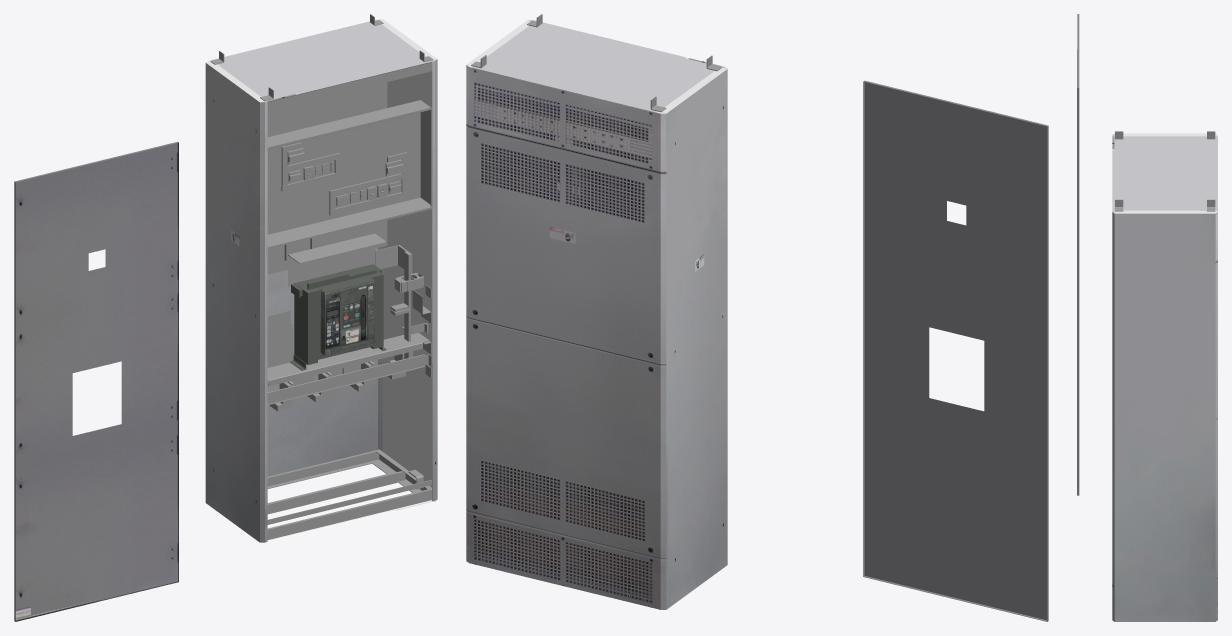
The model's file is SECTION1.fbx.
3 views of the same model, side by side, from view 1: azimuth 30°, elevation 25°; view 2: azimuth 150°, elevation 25°; view 3: azimuth 270°, elevation 25° (orthographic). The views are drawn at different scales.
Parts seen in each view (by area): view 1: frontDoor1, shell, lilCube, breakets_final, wl_breaker, midBrackets, rearPlane, brackets_top2, brackets_top4, pCube27, pCube7; view 2: shell, frontDoor1; view 3: shell, frontDoor1, brackets_top4.
Boxes of the visible parts, bbox=[...] form: frontDoor1: bbox=[14, 141, 178, 621]; shell: bbox=[205, 19, 437, 542]; lilCube: bbox=[267, 100, 431, 248]; breakets_final: bbox=[267, 226, 431, 524]; wl_breaker: bbox=[290, 264, 386, 370]; midBrackets: bbox=[267, 310, 431, 405]; rearPlane: bbox=[267, 82, 387, 274]; brackets_top2: bbox=[267, 449, 431, 539]; brackets_top4: bbox=[210, 14, 433, 111]; pCube27: bbox=[329, 152, 407, 215]; pCube7: bbox=[281, 142, 340, 191]; shell: bbox=[466, 20, 727, 609]; frontDoor1: bbox=[863, 80, 1048, 621]; shell: bbox=[1112, 133, 1217, 621]; frontDoor1: bbox=[1077, 14, 1079, 495]; brackets_top4: bbox=[1115, 131, 1215, 211].
Bounding box in the file's own units: 0.9462 × 0.9175 × 0.2813.
4 materials, 3 textured.
